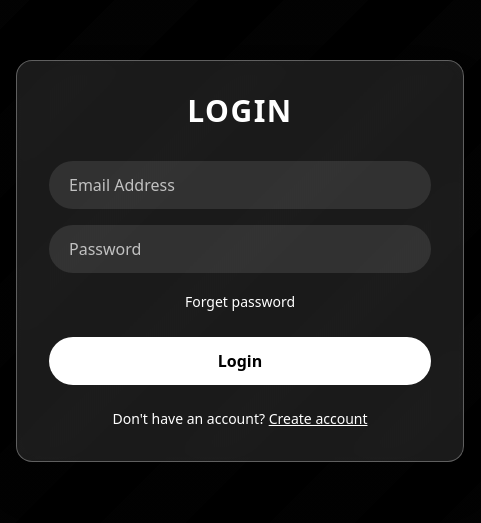
Test: Login Component › toggles to CREATE ACCOUNT view
The width and height of the screenshot is (481, 523).
Click the button "Create account" at point(318, 419), box 269,409 -> 368,429
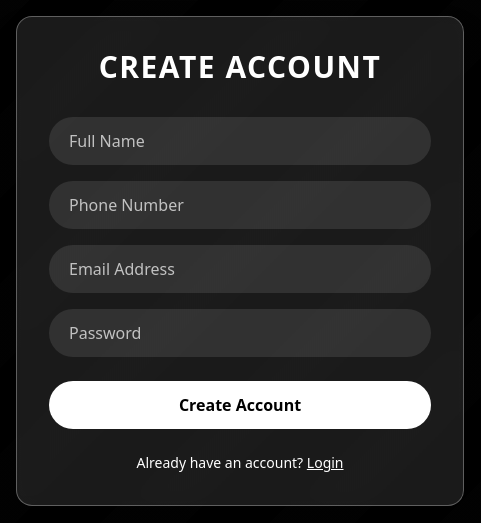
Result: the heading "CREATE ACCOUNT" is shown at 99,46 -> 381,87
